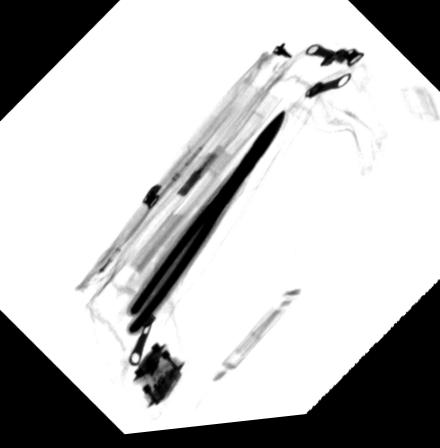Pliers: (124, 113, 286, 338)
